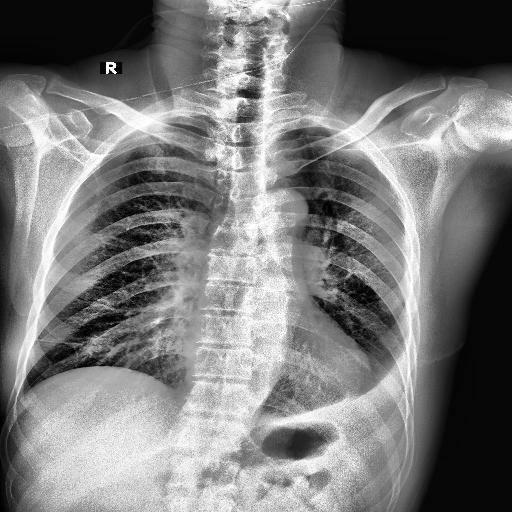0- Aortic enlargement: (252, 188, 309, 230), (264, 186, 308, 228)
10- Pleural effusion: (268, 306, 412, 450), (288, 342, 412, 426), (352, 354, 412, 421)
11- Pleural thickening: (164, 111, 205, 117)
13- Pulmonary fibrosis: (34, 338, 94, 350), (35, 338, 88, 344)
